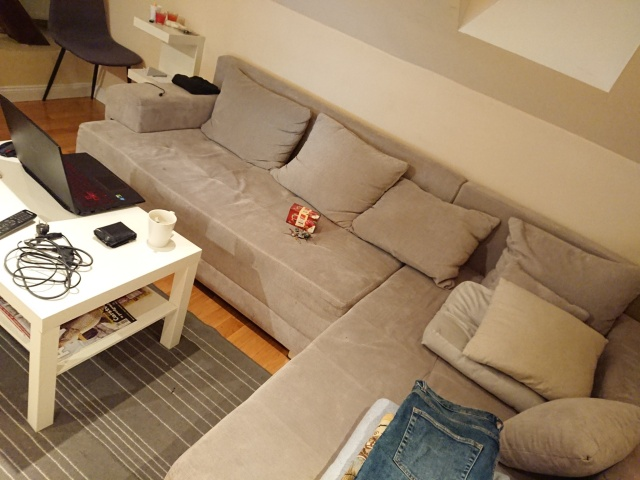Franck Apple Cinnamon Tea 60g: (283, 201, 323, 235)
